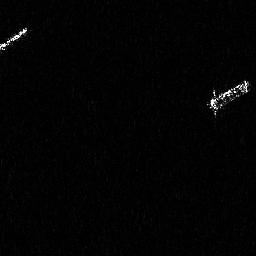ship: (204, 77, 252, 119), (1, 25, 31, 53)
